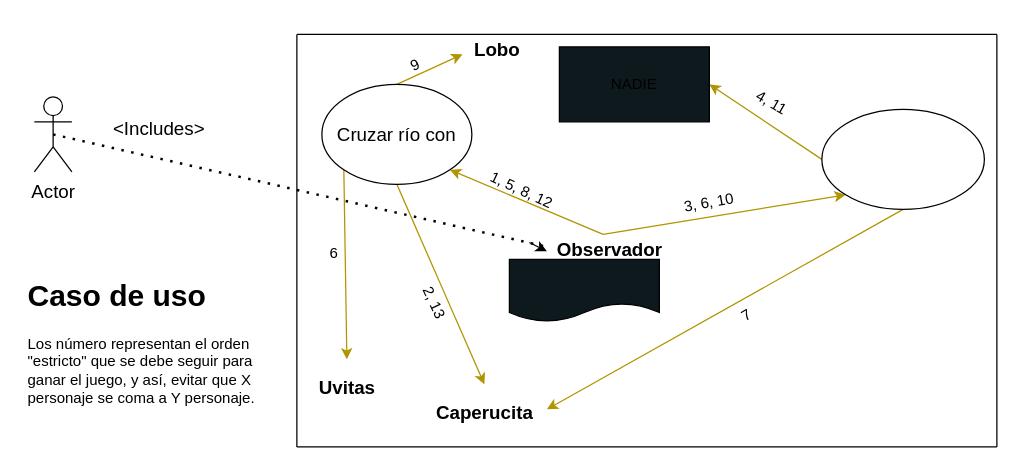
Image size: 1020x470. Some labels were removed from this diagram. The centre of each missing label's shape, as x and y in pixels:
BOTE: [583,290]
Regresar del río con: [902,158]
